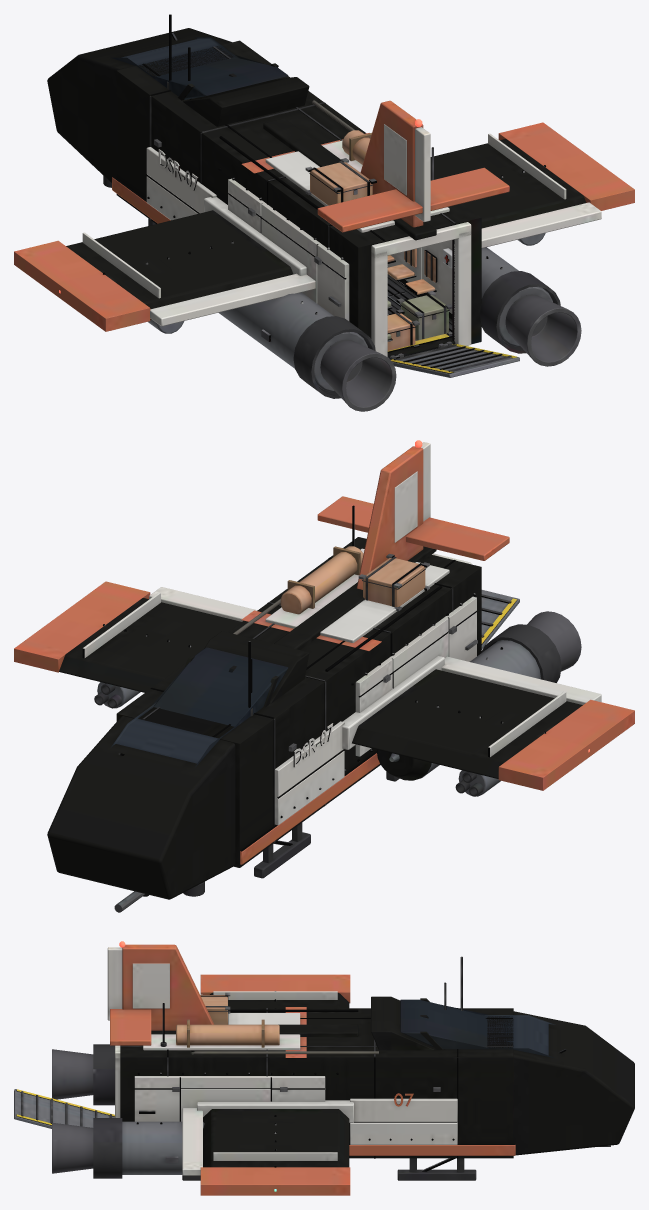
The model's file is kestrel.glb.
The picture shows the model from 3 angles, top to bottom: view 1: azimuth 30°, elevation 25°; view 2: azimuth 150°, elevation 25°; view 3: azimuth 270°, elevation 25°; orthographic projection. The views are drawn at different scales.
Visible parts, largest first — view 1: hull, glass, ramp.001; view 2: hull, glass, ramp.001; view 3: hull, glass, ramp.001.
Boxes of the visible parts, x1,y1,x2,y2 form: hull: (14, 14, 634, 411); glass: (111, 37, 288, 99); ramp.001: (391, 344, 519, 377); hull: (14, 442, 634, 912); glass: (111, 647, 288, 767); ramp.001: (481, 590, 519, 649); hull: (52, 944, 634, 1195); glass: (400, 999, 555, 1057); ramp.001: (14, 1089, 114, 1128).
Bounding box in the file's own units: 12.03 × 5.73 × 15.
Materials: 22 (17 with a texture image).
